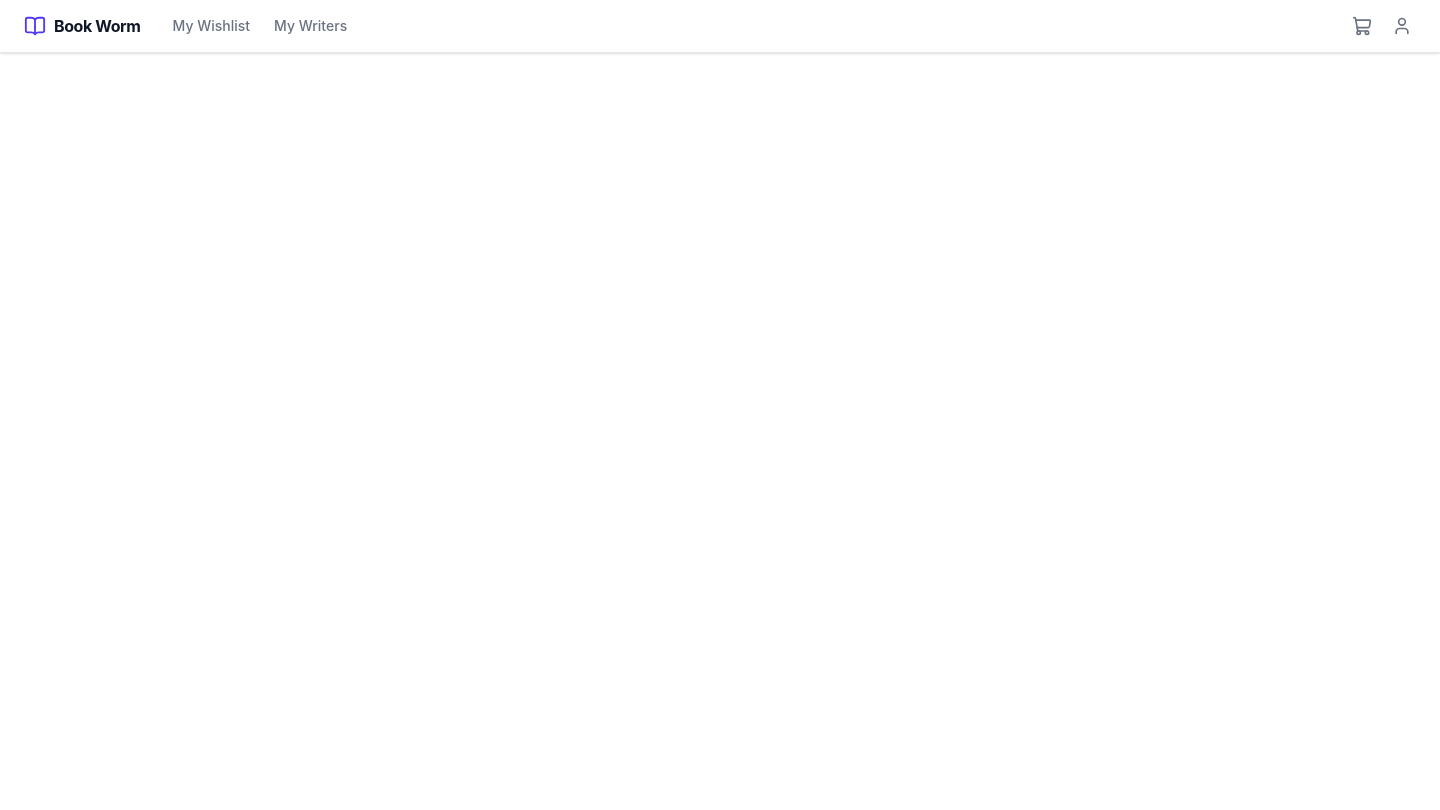
Test case: Navbar component › renders desktop navigation links; clicking My Wishlist opens wishlist panel
Click the button "My Wishlist": {"x": 211, "y": 26} [172, 16, 250, 36]
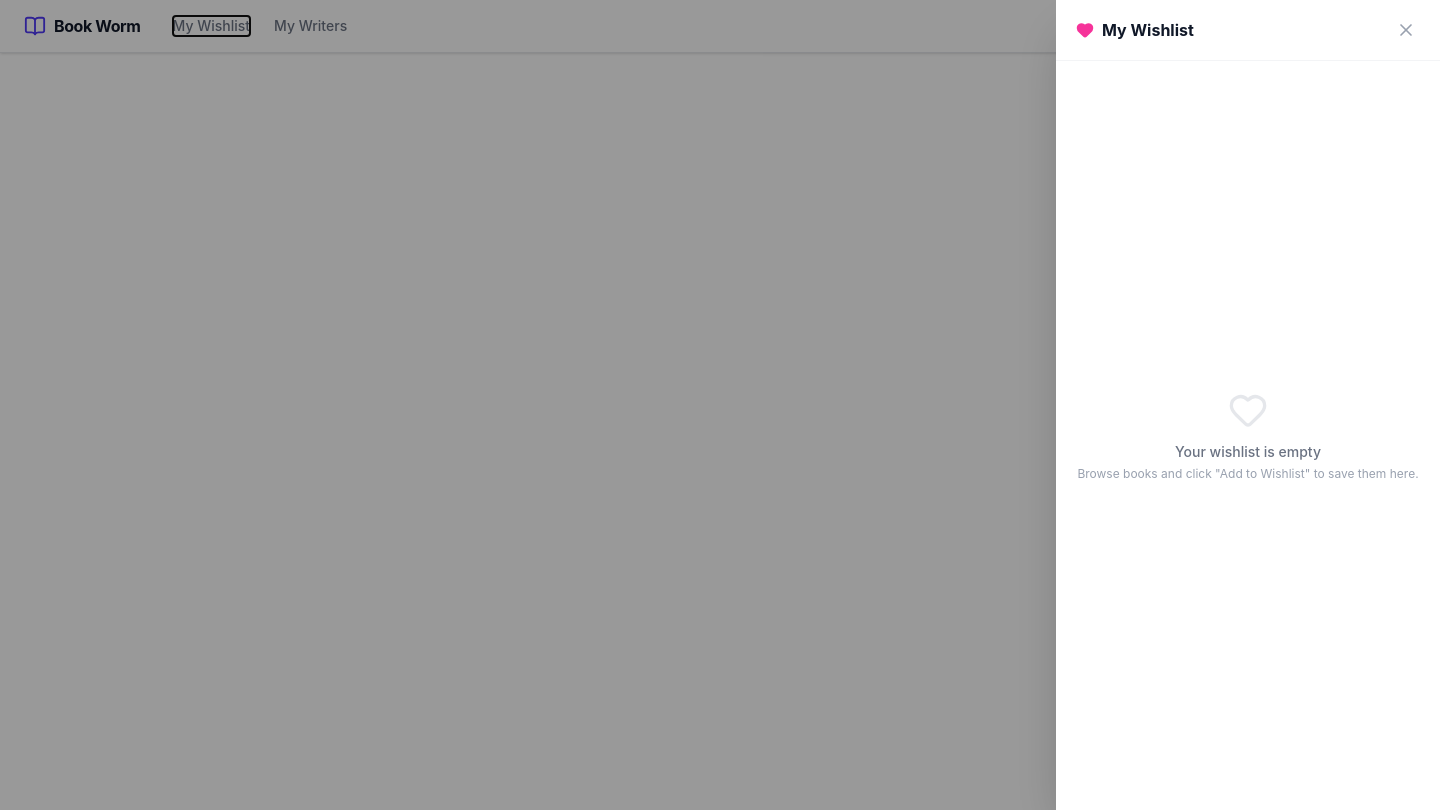
expect the text "Your wishlist is empty" is shown: met, box [1175, 442, 1321, 462]
